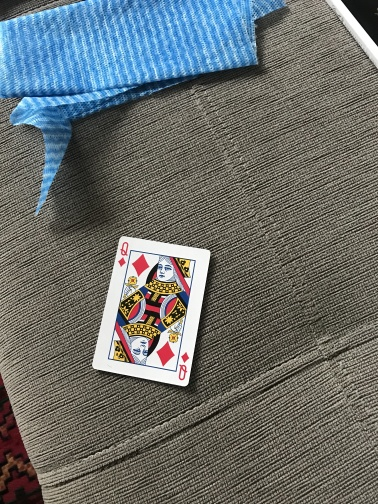queen: (90, 234, 212, 389)
